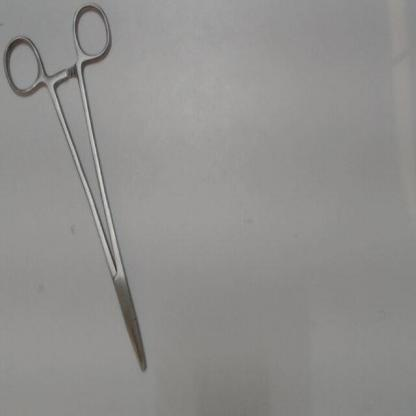8 Mayo Needle Holder: (1, 0, 157, 383)
